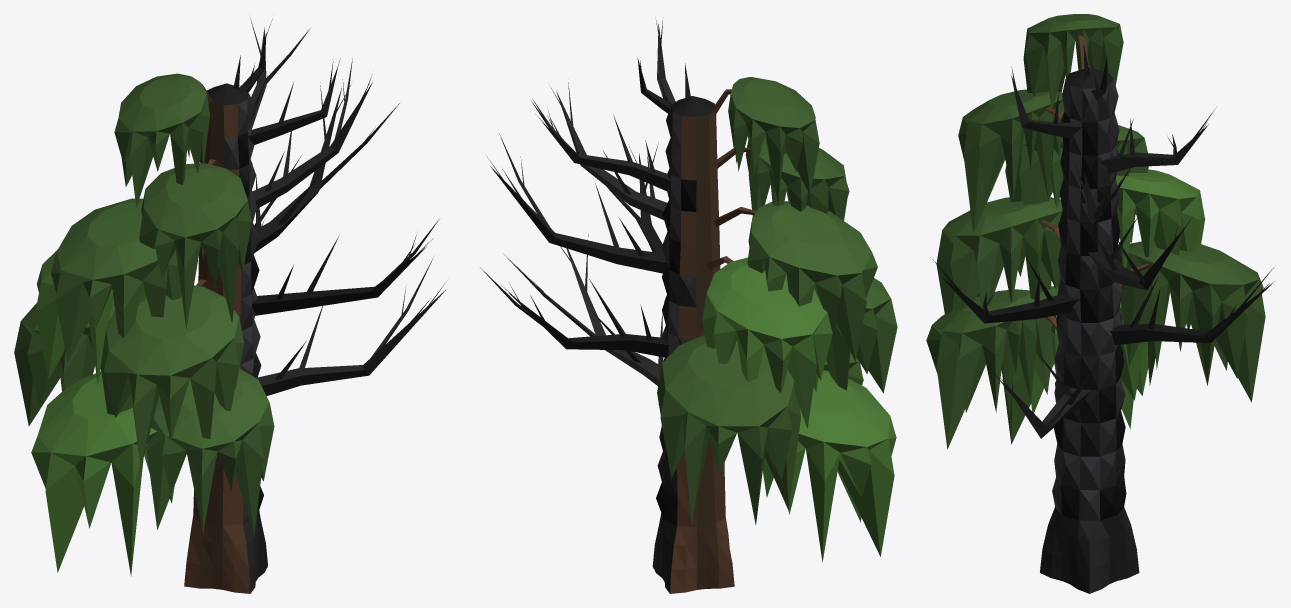
File: scorched-tree-e927a3.glb
3 renders of one model, left to right at view 1: azimuth 30°, elevation 25°; view 2: azimuth 150°, elevation 25°; view 3: azimuth 270°, elevation 25°, orthographic. The views are drawn at different scales.
Visible parts, largest first — view 1: scorched-tree-e927a3; view 2: scorched-tree-e927a3; view 3: scorched-tree-e927a3.
Part boxes in pixels (<box>): scorched-tree-e927a3: <box>14,18,446,593</box>; scorched-tree-e927a3: <box>480,17,897,593</box>; scorched-tree-e927a3: <box>926,14,1275,593</box>.
Bounding box in the file's own units: 7.06 × 9.03 × 5.27.
